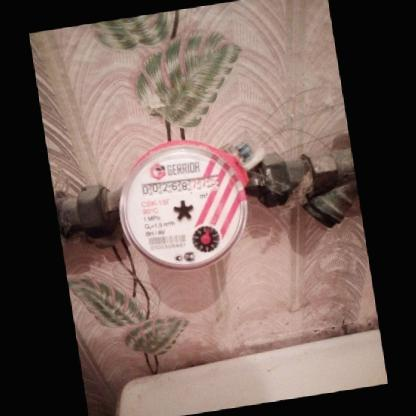digital_screen: (136, 176, 189, 199)
